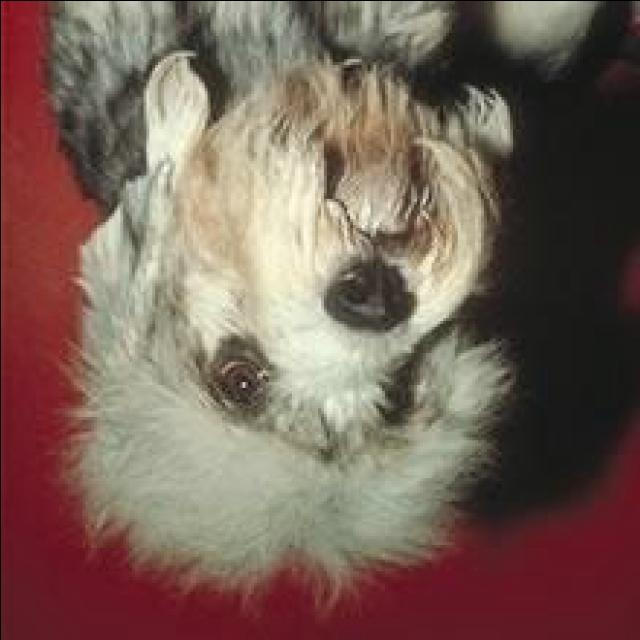dandie_dinmont: (32, 3, 614, 617)
